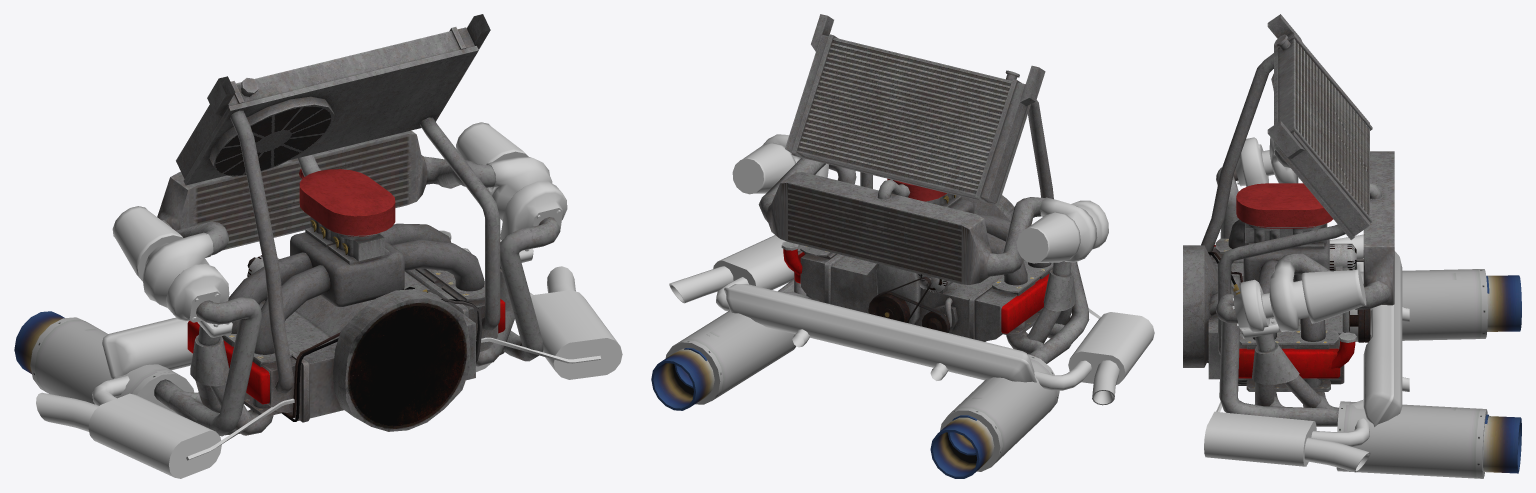
Rendered from 1.5_ohv.dae.
3 renders of one model, left to right at view 1: azimuth 30°, elevation 25°; view 2: azimuth 150°, elevation 25°; view 3: azimuth 270°, elevation 25°, orthographic. The views are drawn at different scales.
Parts seen in each view (by area): view 1: ab_engine_ohv_block, ab_engine_ohv_radiator, autobello_ohv_exhaust_c, ab_engine_ohv_intercooler, autobello_ohv_twinturbo, autobello_ohv_tc4b, ab_engine_ohv_headers_turbo, autobello_15_exhaust_fartcan2_R, tc4b_intake_stock, ab_engine_ohv_radpipe_R, autobello_15_muffler_a, ab_engine_ohv_radpipe_L (+1 smaller); view 2: ab_engine_ohv_radiator, ab_engine_ohv_intercooler, ab_engine_ohv_block, autobello_15_muffler_a, autobello_ohv_exhaust_c, autobello_15_exhaust_fartcan2_L, autobello_15_exhaust_fartcan2_R, autobello_ohv_twinturbo, ab_engine_ohv_headers_turbo, autobello_ohv_tc4b, ab_engine_ohv_radpipe_R, ab_engine_ohv_headers (+4 smaller); view 3: ab_engine_ohv_radiator, autobello_15_exhaust_fartcan2_L, ab_engine_ohv_block, autobello_ohv_twinturbo, autobello_15_exhaust_fartcan2_R, autobello_ohv_exhaust_c, ab_engine_ohv_headers_turbo, ab_engine_ohv_intercooler, autobello_15_muffler_a, tc4b_intake_stock, autobello_ohv_tc4b, ab_engine_ohv_radpipe_R (+3 smaller).
Part boxes in pixels (x1,y1,x2,y2): ab_engine_ohv_block: [187, 230, 505, 431]; ab_engine_ohv_radiator: [176, 14, 490, 185]; autobello_ohv_exhaust_c: [36, 266, 622, 478]; ab_engine_ohv_intercooler: [157, 130, 495, 255]; autobello_ohv_twinturbo: [112, 122, 567, 337]; autobello_ohv_tc4b: [228, 217, 484, 354]; ab_engine_ohv_headers_turbo: [168, 217, 560, 436]; autobello_15_exhaust_fartcan2_R: [14, 311, 194, 413]; tc4b_intake_stock: [299, 169, 395, 236]; ab_engine_ohv_radpipe_R: [230, 110, 293, 393]; autobello_15_muffler_a: [102, 248, 471, 379]; ab_engine_ohv_radpipe_L: [419, 117, 500, 330]; ab_engine_ohv_radiator: [785, 14, 1045, 205]; ab_engine_ohv_intercooler: [758, 158, 1045, 284]; ab_engine_ohv_block: [781, 195, 1053, 341]; autobello_15_muffler_a: [724, 284, 1036, 382]; autobello_ohv_exhaust_c: [669, 235, 1154, 405]; autobello_15_exhaust_fartcan2_L: [651, 310, 796, 410]; autobello_15_exhaust_fartcan2_R: [930, 354, 1059, 478]; autobello_ohv_twinturbo: [732, 134, 1108, 263]; ab_engine_ohv_headers_turbo: [778, 164, 1089, 363]; autobello_ohv_tc4b: [927, 193, 1051, 285]; ab_engine_ohv_radpipe_R: [1028, 100, 1053, 199]; ab_engine_ohv_headers: [778, 280, 1071, 363]; ab_engine_ohv_radiator: [1267, 14, 1372, 239]; autobello_15_exhaust_fartcan2_L: [1336, 401, 1521, 478]; ab_engine_ohv_block: [1183, 238, 1356, 391]; autobello_ohv_twinturbo: [1232, 137, 1366, 338]; autobello_15_exhaust_fartcan2_R: [1349, 269, 1521, 341]; autobello_ohv_exhaust_c: [1204, 234, 1370, 472]; ab_engine_ohv_headers_turbo: [1216, 167, 1337, 426]; ab_engine_ohv_intercooler: [1274, 150, 1394, 309]; autobello_15_muffler_a: [1351, 251, 1409, 426]; tc4b_intake_stock: [1236, 183, 1333, 228]; autobello_ohv_tc4b: [1228, 219, 1329, 341]; ab_engine_ohv_radpipe_R: [1201, 53, 1273, 256].
Size of the model in its own units: 1.18 by 0.7532 by 0.8252.
